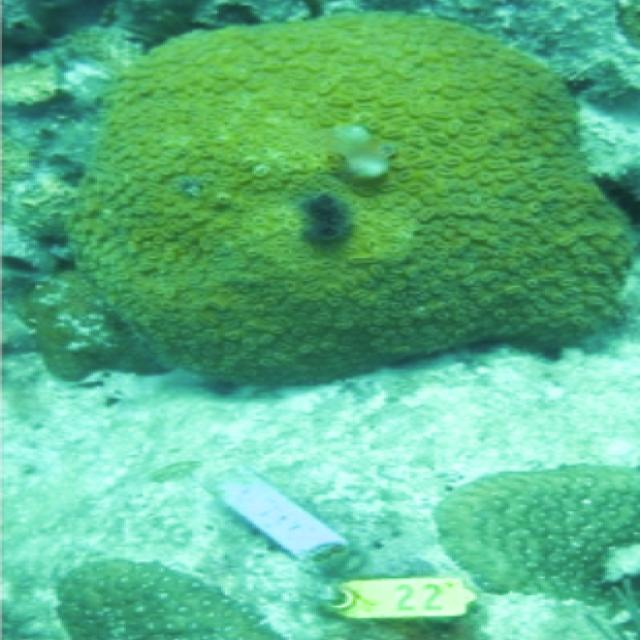Coral: (25, 12, 639, 386), (434, 463, 640, 609), (55, 559, 282, 640)
